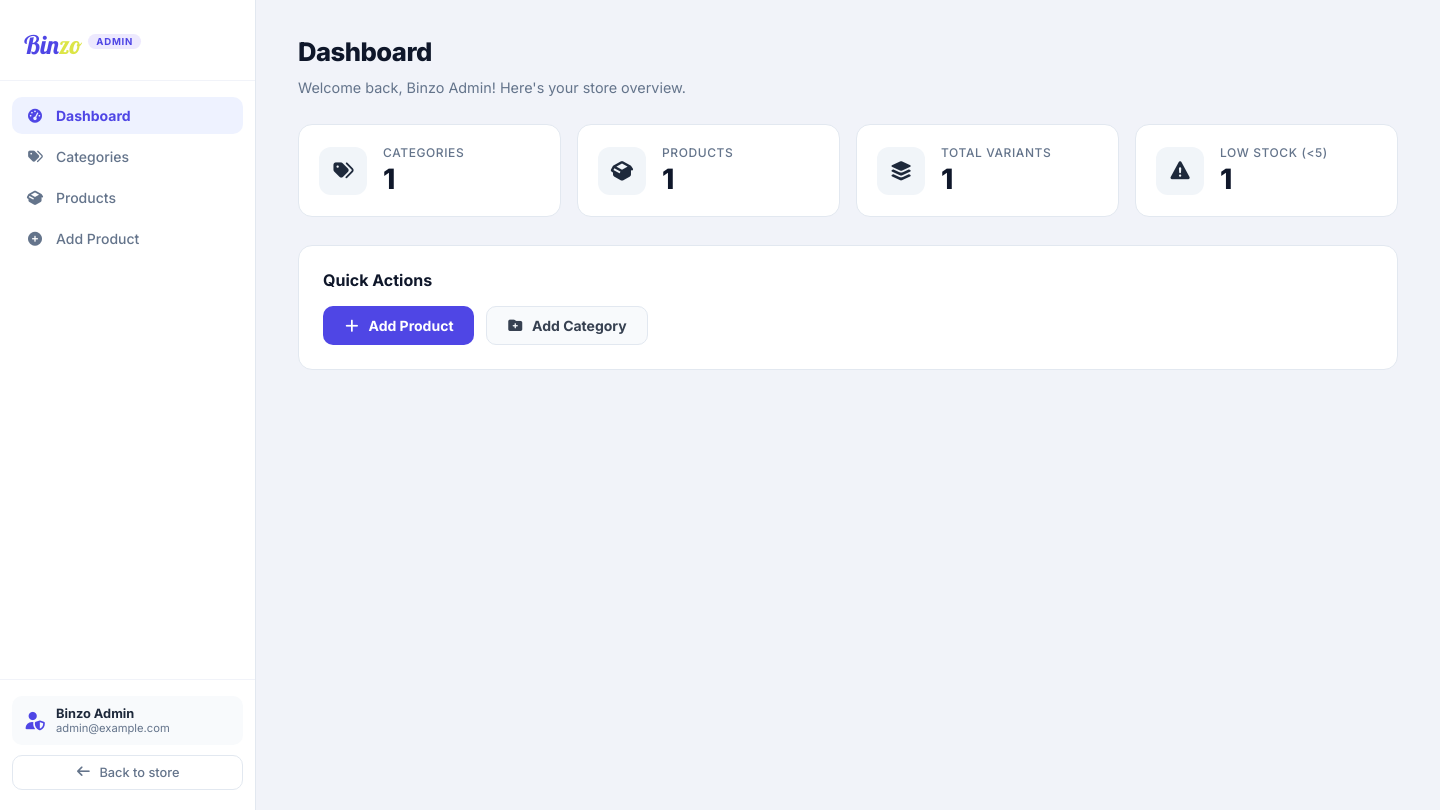
it: AdminPage integration › loads dashboard data and filters products by search text
Expected: the text "Welcome back, Binzo Admin! Here's your store overview." is shown, [298, 79, 686, 96]
Expected: the 1st text "1" is shown, [383, 162, 395, 196]
Click the button "Products": coordinates (128, 198) [12, 179, 243, 216]
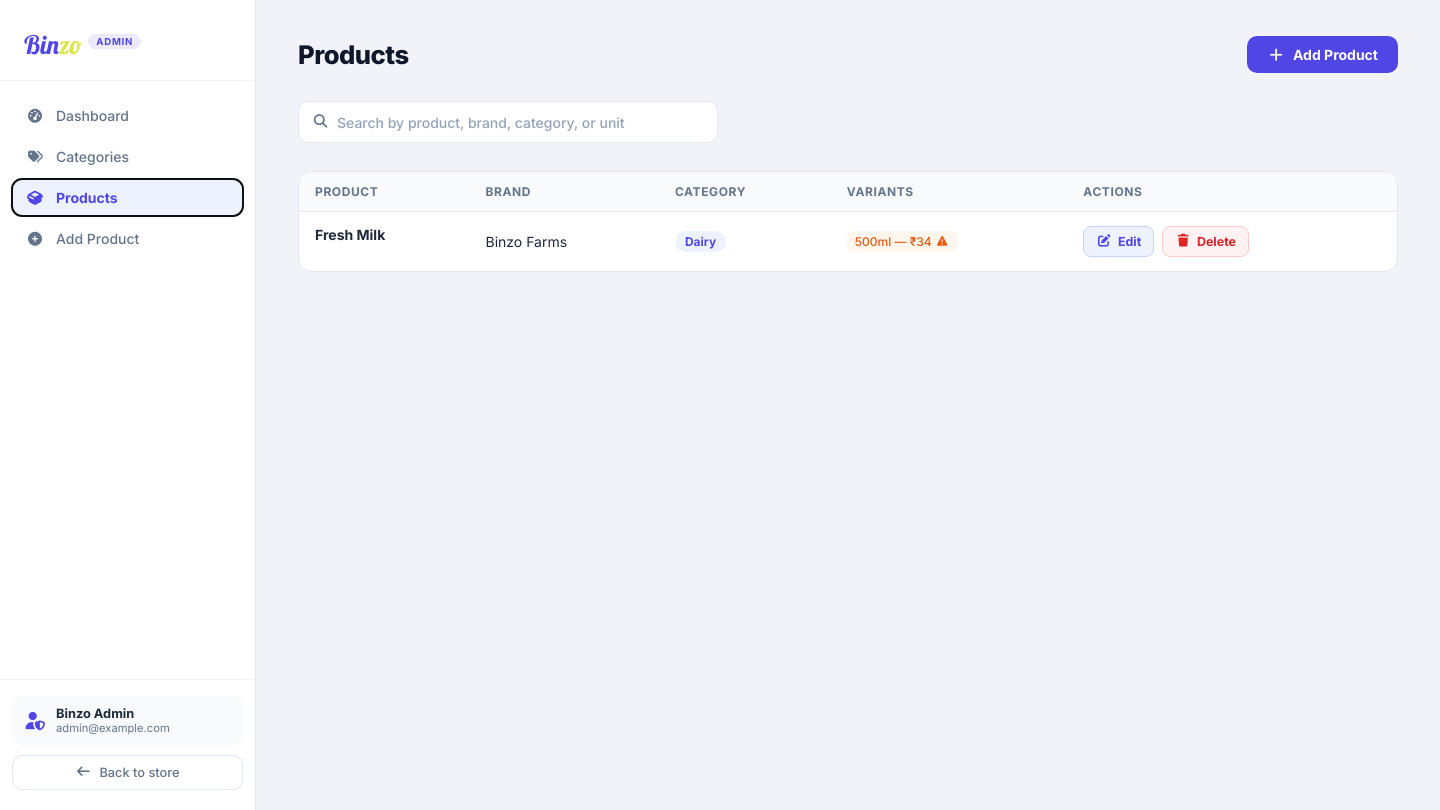
Now the text "Fresh Milk" is shown, box [299, 212, 470, 257]
In the search field named "Search products": coordinates (508, 122) [298, 101, 718, 143], type "oat"
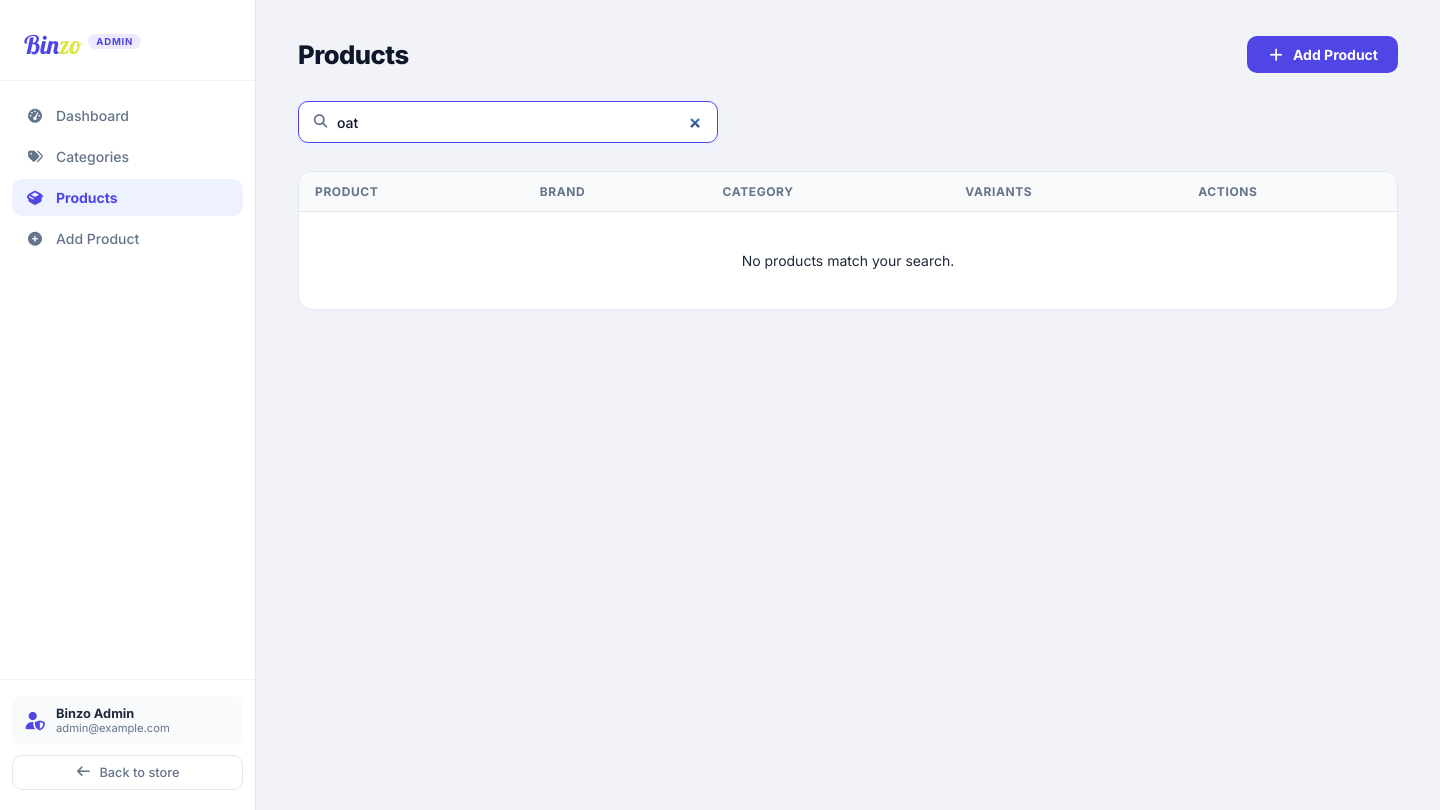
Now the text "No products match your search." is shown, box [299, 212, 1397, 309]
Clear the search field named "Search products": coordinates (508, 122) [298, 101, 718, 143]
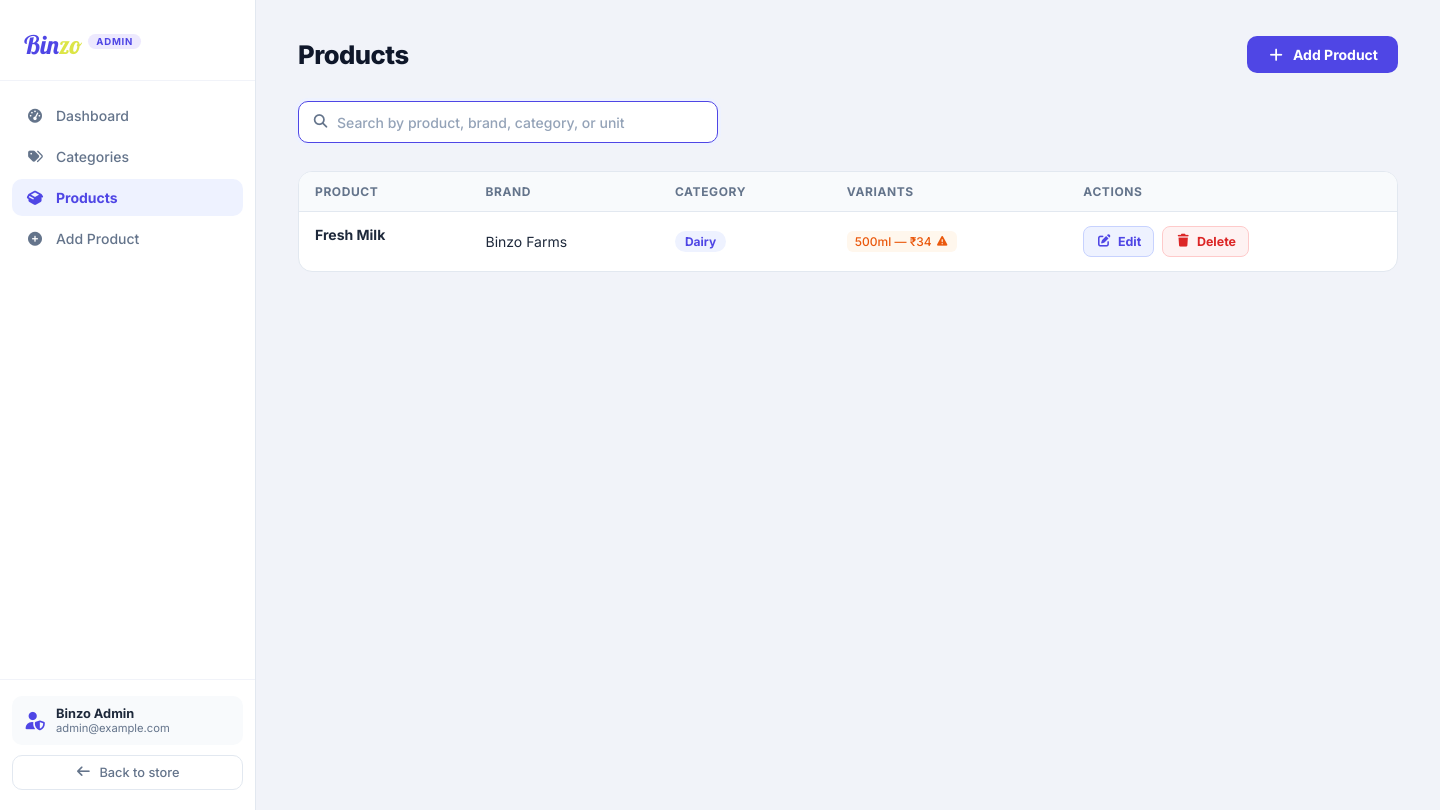
Now the text "Fresh Milk" is shown, box [299, 212, 470, 257]
